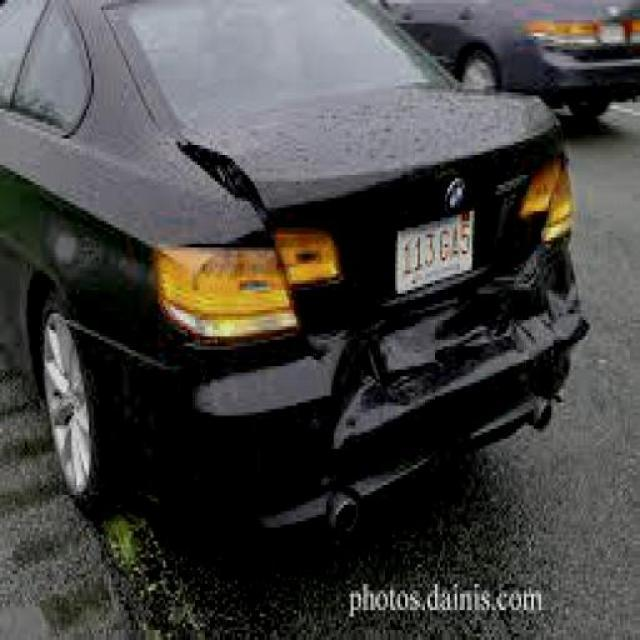car damage: (182, 84, 586, 492)
